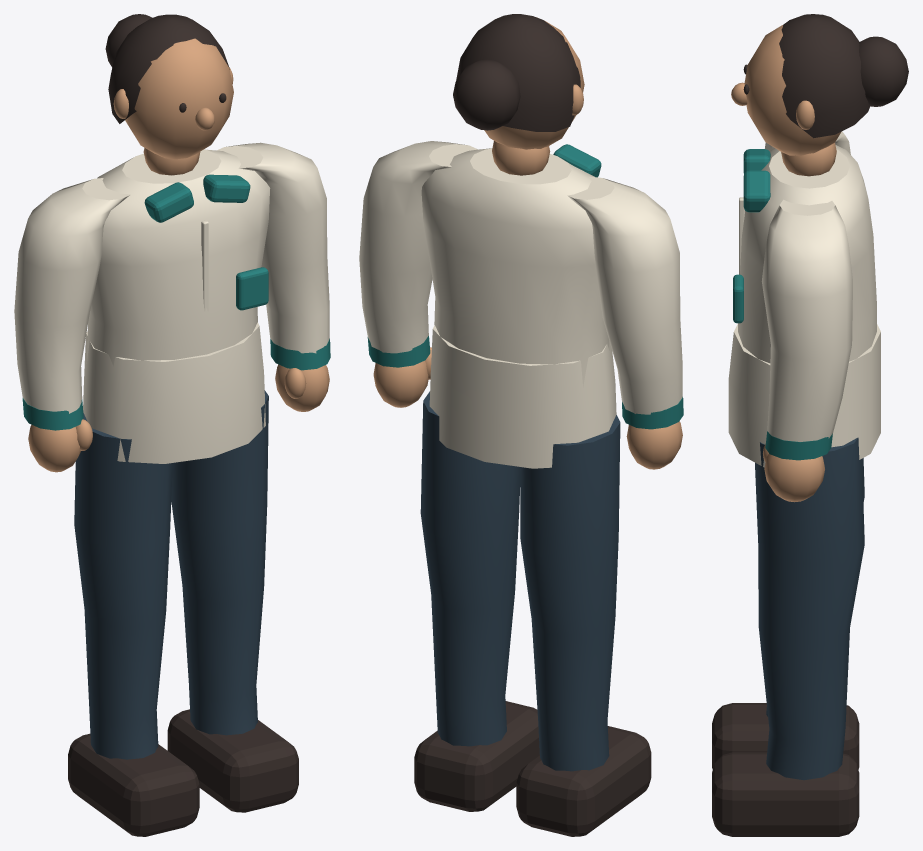
File: medic.glb
3 renders of one model, left to right at view 1: azimuth 30°, elevation 25°; view 2: azimuth 150°, elevation 25°; view 3: azimuth 270°, elevation 25°, orthographic. The views are drawn at different scales.
Parts seen in each view (by area): view 1: batch-medic-root-cream, batch-right-leg-dark, batch-left-leg-dark, batch-right-arm-cream, batch-left-arm-cream, batch-medic-root-skin, batch-right-leg-hair, batch-left-leg-hair, batch-medic-root-hair, batch-medic-root-teal, batch-right-arm-skin, batch-left-arm-skin (+2 smaller); view 2: batch-medic-root-cream, batch-right-leg-dark, batch-left-leg-dark, batch-right-arm-cream, batch-left-arm-cream, batch-medic-root-hair, batch-right-leg-hair, batch-left-leg-hair, batch-medic-root-skin, batch-left-arm-skin, batch-right-arm-skin, batch-right-arm-teal (+2 smaller); view 3: batch-left-leg-dark, batch-medic-root-cream, batch-left-arm-cream, batch-medic-root-hair, batch-left-leg-hair, batch-medic-root-skin, batch-right-leg-hair, batch-left-arm-skin, batch-medic-root-teal, batch-left-arm-teal.
Part boxes in pixels (x1=…): batch-medic-root-cream: x1=83, y1=149, x2=270, y2=463; batch-right-leg-dark: x1=74, y1=413, x2=172, y2=759; batch-left-leg-dark: x1=171, y1=390, x2=268, y2=735; batch-right-arm-cream: x1=14, y1=178, x2=130, y2=413; batch-left-arm-cream: x1=216, y1=142, x2=329, y2=353; batch-medic-root-skin: x1=113, y1=38, x2=233, y2=175; batch-right-leg-hair: x1=68, y1=733, x2=199, y2=836; batch-left-leg-hair: x1=167, y1=709, x2=298, y2=812; batch-medic-root-hair: x1=105, y1=14, x2=229, y2=123; batch-medic-root-teal: x1=144, y1=174, x2=268, y2=310; batch-right-arm-skin: x1=28, y1=419, x2=92, y2=472; batch-left-arm-skin: x1=275, y1=364, x2=329, y2=411; batch-medic-root-cream: x1=421, y1=148, x2=616, y2=468; batch-right-leg-dark: x1=520, y1=415, x2=620, y2=771; batch-left-leg-dark: x1=420, y1=391, x2=520, y2=746; batch-right-arm-cream: x1=567, y1=176, x2=682, y2=414; batch-left-arm-cream: x1=359, y1=141, x2=477, y2=353; batch-medic-root-hair: x1=453, y1=14, x2=580, y2=131; batch-right-leg-hair: x1=516, y1=726, x2=651, y2=836; batch-left-leg-hair: x1=414, y1=701, x2=539, y2=811; batch-medic-root-skin: x1=484, y1=17, x2=584, y2=175; batch-left-arm-skin: x1=373, y1=347, x2=431, y2=407; batch-right-arm-skin: x1=626, y1=421, x2=682, y2=469; batch-right-arm-teal: x1=622, y1=397, x2=683, y2=429; batch-left-leg-dark: x1=755, y1=437, x2=864, y2=780; batch-medic-root-cream: x1=728, y1=145, x2=880, y2=467; batch-left-arm-cream: x1=761, y1=199, x2=852, y2=441; batch-medic-root-hair: x1=743, y1=14, x2=908, y2=138; batch-left-leg-hair: x1=712, y1=752, x2=859, y2=836; batch-medic-root-skin: x1=731, y1=25, x2=841, y2=176; batch-right-leg-hair: x1=712, y1=703, x2=859, y2=769; batch-left-arm-skin: x1=763, y1=444, x2=824, y2=502; batch-medic-root-teal: x1=733, y1=149, x2=770, y2=323; batch-left-arm-teal: x1=765, y1=431, x2=832, y2=460.
Bounding box in the file's own units: 0.696 × 1.7 × 0.388.
